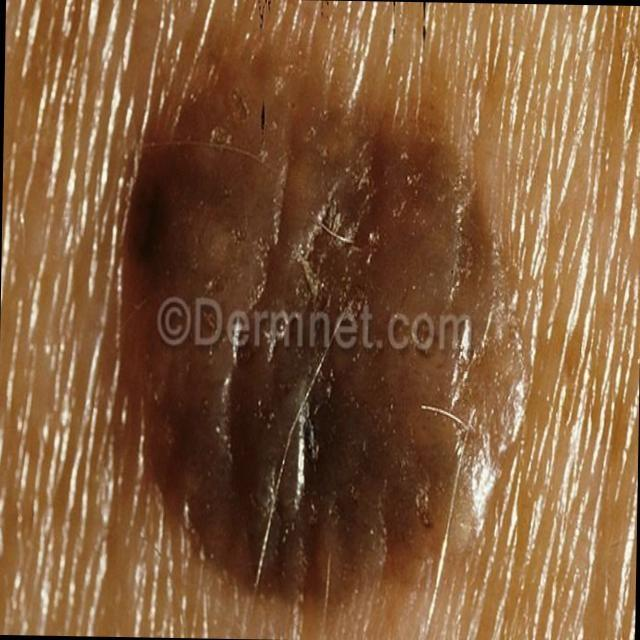Eczema: (106, 49, 524, 561)
